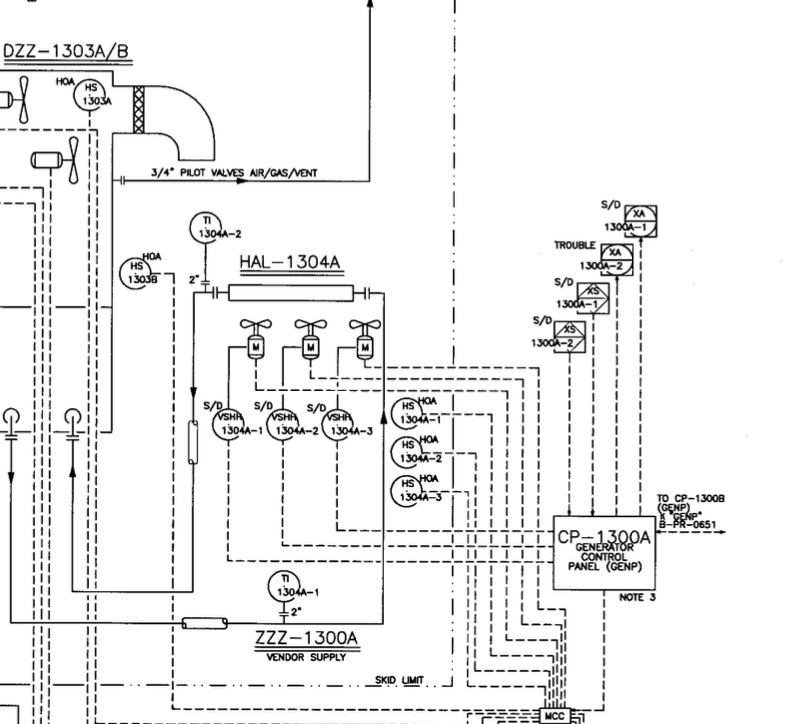Instrument-offset: (180, 209, 251, 248), (385, 393, 445, 431), (264, 565, 323, 603), (388, 472, 446, 510), (264, 408, 321, 446), (208, 407, 265, 445), (323, 408, 379, 444), (388, 434, 442, 471), (69, 78, 117, 113), (118, 255, 163, 289)
Instrument-square-offset: (528, 319, 597, 358), (555, 279, 616, 321), (604, 203, 666, 243), (581, 243, 646, 279)
